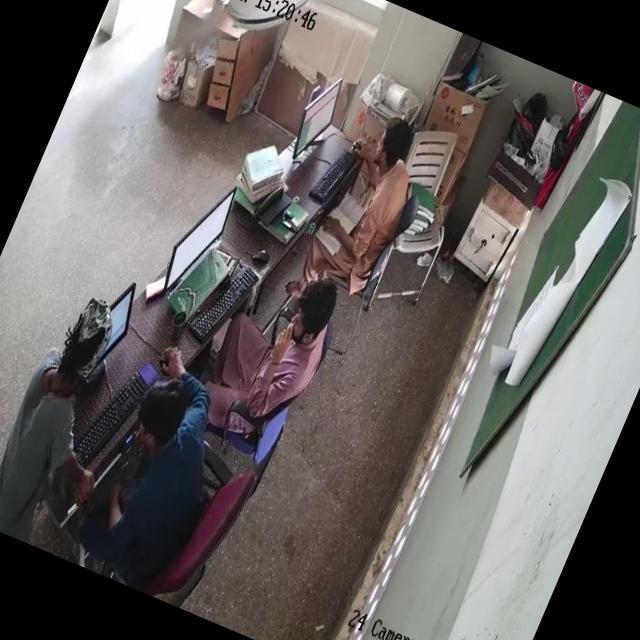person: (81, 357, 239, 562), (0, 289, 123, 541), (200, 253, 344, 440), (306, 109, 434, 290)
